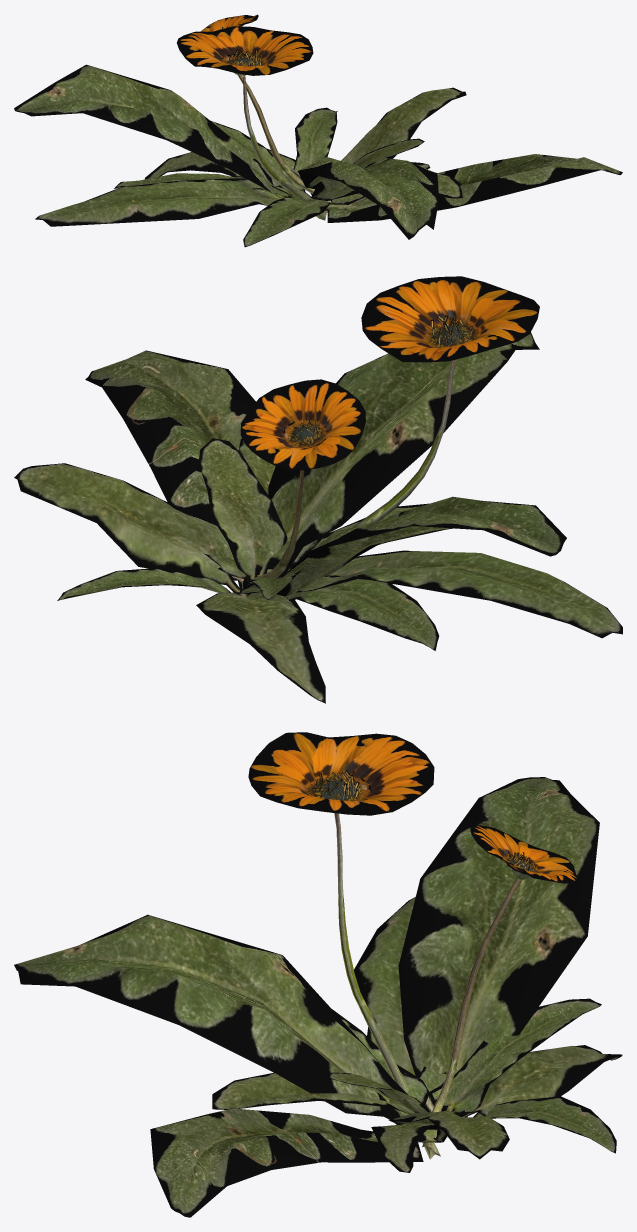
Rendered from flower_gazania_4.gltf.
3 views of the same model, one above another, from view 1: azimuth 30°, elevation 25°; view 2: azimuth 150°, elevation 25°; view 3: azimuth 270°, elevation 25° (orthographic). The views are drawn at different scales.
Visible parts, largest first — view 1: flower_gazania_e_LOD0; view 2: flower_gazania_e_LOD0; view 3: flower_gazania_e_LOD0.
Part boxes in pixels (x1,y1,x2,y2): flower_gazania_e_LOD0: (14, 14, 622, 247); flower_gazania_e_LOD0: (14, 276, 622, 703); flower_gazania_e_LOD0: (14, 732, 622, 1217).
Bounding box in the file's own units: 0.2409 × 0.1074 × 0.186.
Materials: 1 (1 with a texture image).
